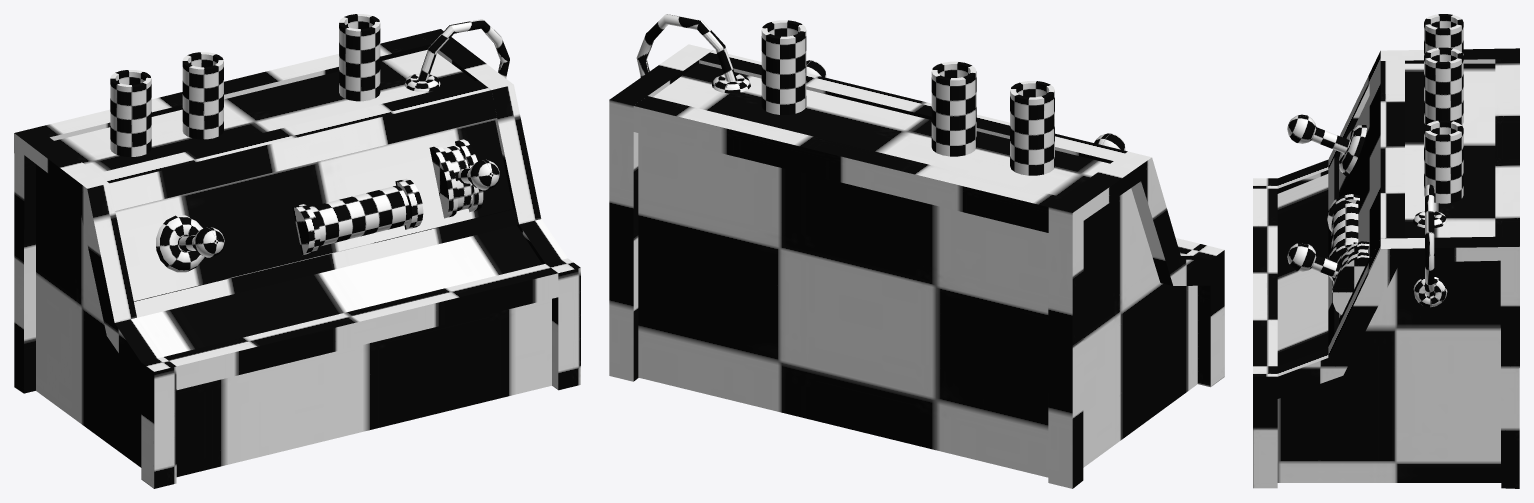
The model's file is console.FBX.
3 renders of one model, left to right at view 1: azimuth 30°, elevation 25°; view 2: azimuth 150°, elevation 25°; view 3: azimuth 270°, elevation 25°, orthographic. The views are drawn at different scales.
Visible parts, largest first — view 1: Box001, Box005, Box003, Box002, Cylinder002, Tube002, Tube003, Tube001, Torus001, Cylinder005, Cylinder008, Cylinder006 (+4 smaller); view 2: Box001, Box005, Box003, Box002, Tube002, Tube003, Tube001, Cylinder005; view 3: Box001, Box005, Box002, Box003, Tube003, Tube002, Tube001, Cylinder001, Cylinder009, Cylinder005, Cylinder002, Cylinder004 (+4 smaller).
Boxes of the visible parts, <box> form: Box001: <box>36,49,551,476</box>; Box005: <box>36,34,558,389</box>; Box003: <box>14,127,176,488</box>; Box002: <box>419,29,580,390</box>; Cylinder002: <box>309,185,410,246</box>; Tube002: <box>182,52,223,139</box>; Tube003: <box>339,14,380,101</box>; Tube001: <box>110,70,151,156</box>; Torus001: <box>156,215,204,272</box>; Cylinder005: <box>417,19,509,81</box>; Cylinder008: <box>429,145,457,218</box>; Cylinder006: <box>292,204,320,255</box>; Box001: <box>638,63,1197,477</box>; Box005: <box>633,50,1199,253</box>; Box003: <box>1048,151,1224,488</box>; Box002: <box>609,44,712,381</box>; Tube002: <box>931,61,976,156</box>; Tube003: <box>761,20,806,114</box>; Tube001: <box>1010,81,1054,175</box>; Cylinder005: <box>636,14,736,81</box>; Box001: <box>1277,63,1501,482</box>; Box005: <box>1253,58,1519,366</box>; Box002: <box>1253,236,1519,488</box>; Box003: <box>1253,48,1519,193</box>; Tube003: <box>1424,120,1463,203</box>; Tube002: <box>1424,47,1463,125</box>; Tube001: <box>1424,14,1463,55</box>; Cylinder001: <box>1287,114,1350,153</box>; Cylinder009: <box>1332,253,1369,314</box>; Cylinder005: <box>1425,184,1434,296</box>; Cylinder002: <box>1331,203,1358,251</box>; Cylinder004: <box>1287,242,1342,277</box>.
Bounding box in the file's own units: 100 × 68.13 × 54.18.
Materials: 1 (1 with a texture image).
